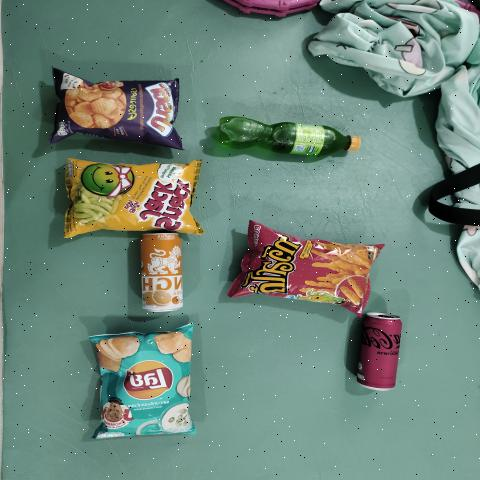coke_red: (355, 313, 403, 391)
fanta_green: (213, 118, 366, 150)
lay_blue: (104, 338, 184, 436)
party_purple: (61, 84, 174, 132)
singha_yellow: (141, 232, 180, 311)
snack_jack: (71, 166, 192, 228)
twisco: (235, 233, 375, 303)
